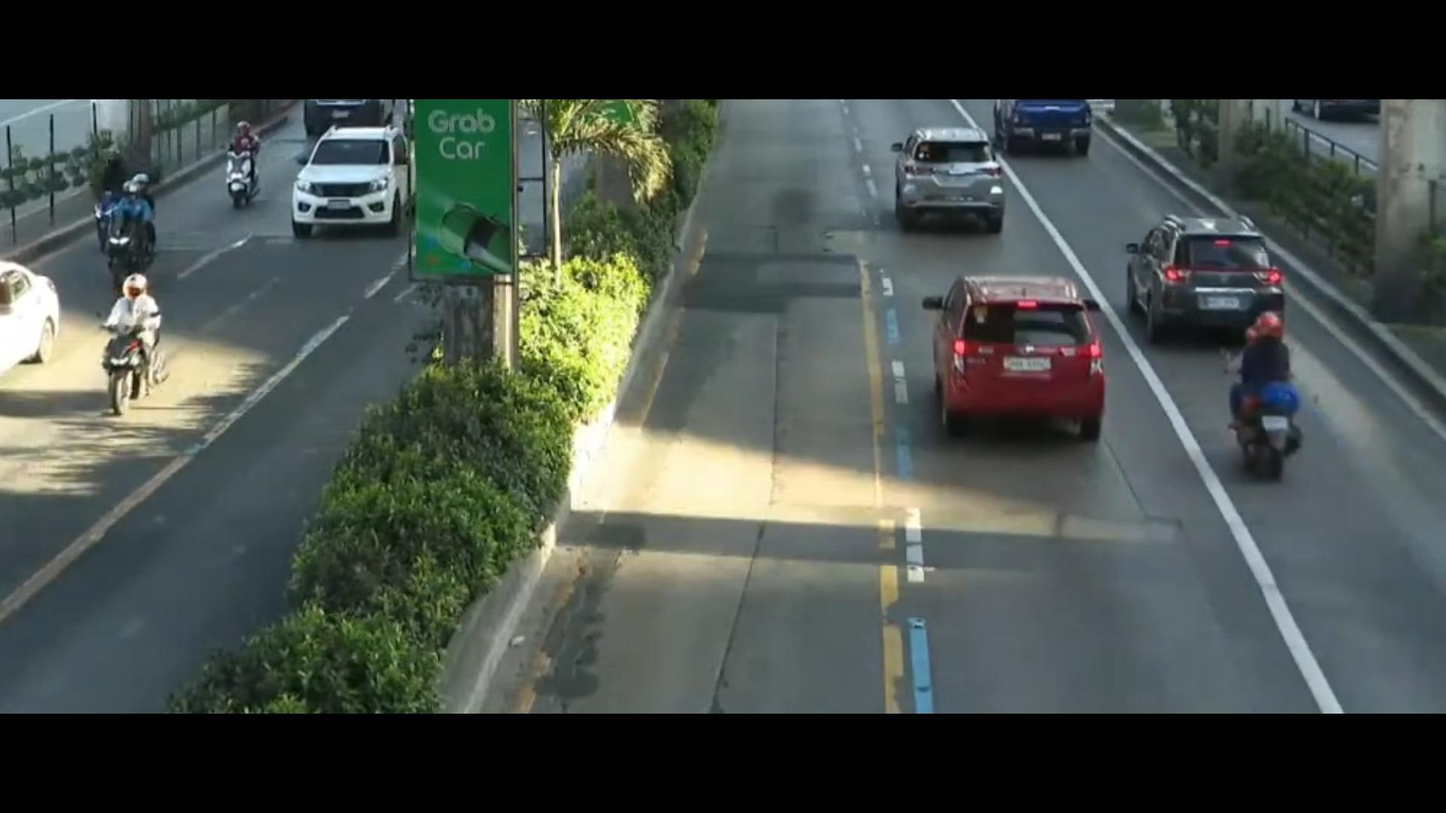Motorcycle: (1209, 296, 1352, 499), (81, 269, 191, 435), (199, 115, 290, 232), (95, 164, 175, 284), (75, 134, 151, 226)
Pickup: (262, 115, 424, 248)
SUV: (925, 269, 1114, 468), (1119, 200, 1304, 359), (882, 100, 1008, 245)
